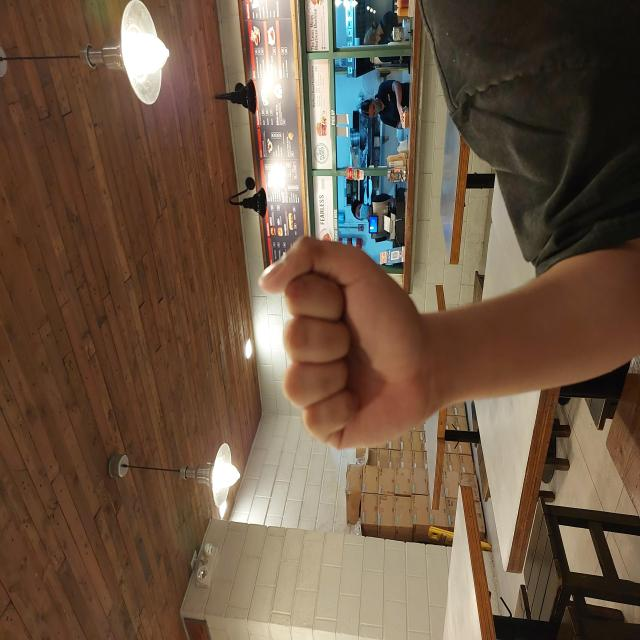A: (187, 256, 406, 434)
